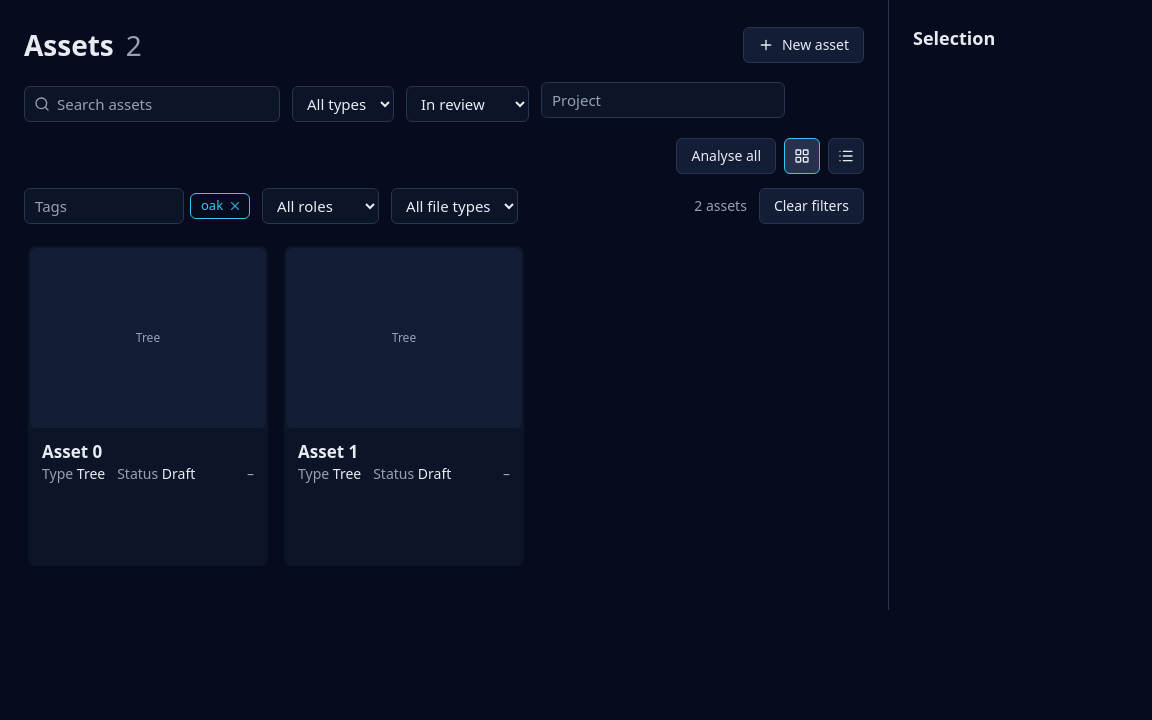
Test: Analyse all starts the current asset filter and shows the outcome
Expected: the text "Asset 0" is shown, [42, 440, 102, 463]
Click the button "Analyse all" at (726, 156), box [676, 138, 776, 174]
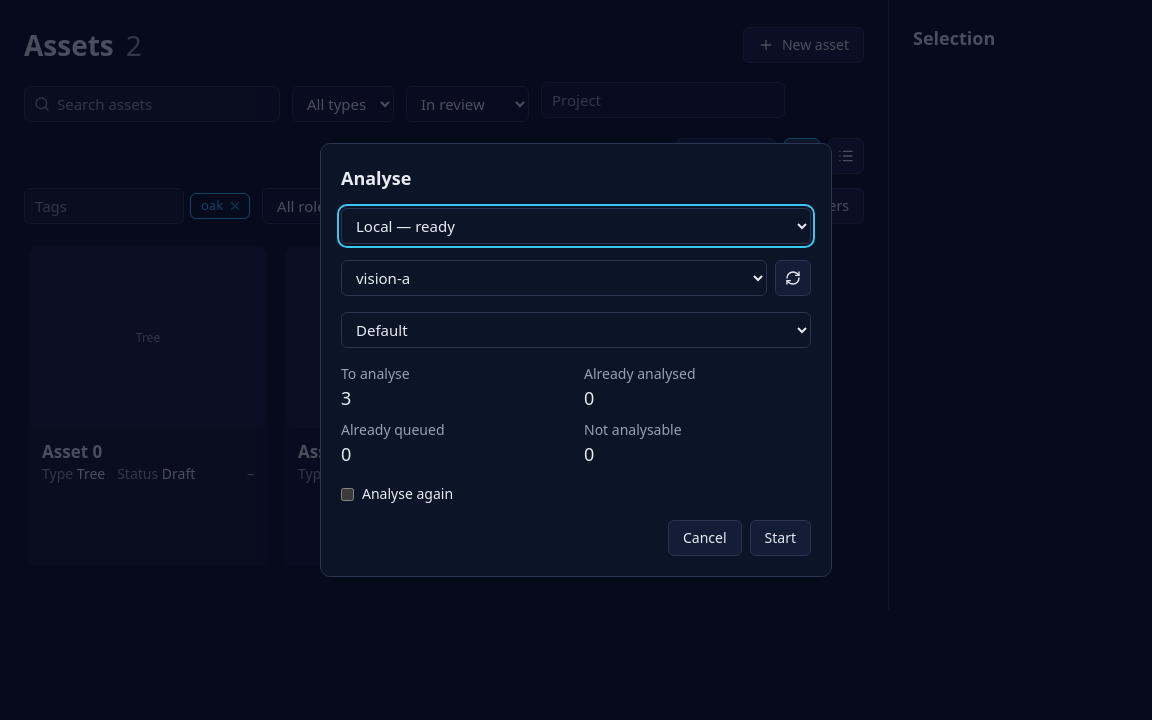
Expected: the dialog "Analyse" is shown, [320, 143, 832, 577]
Expected: the button "Start" is enabled
Click the button "Start" at (780, 538), box [750, 520, 811, 556]
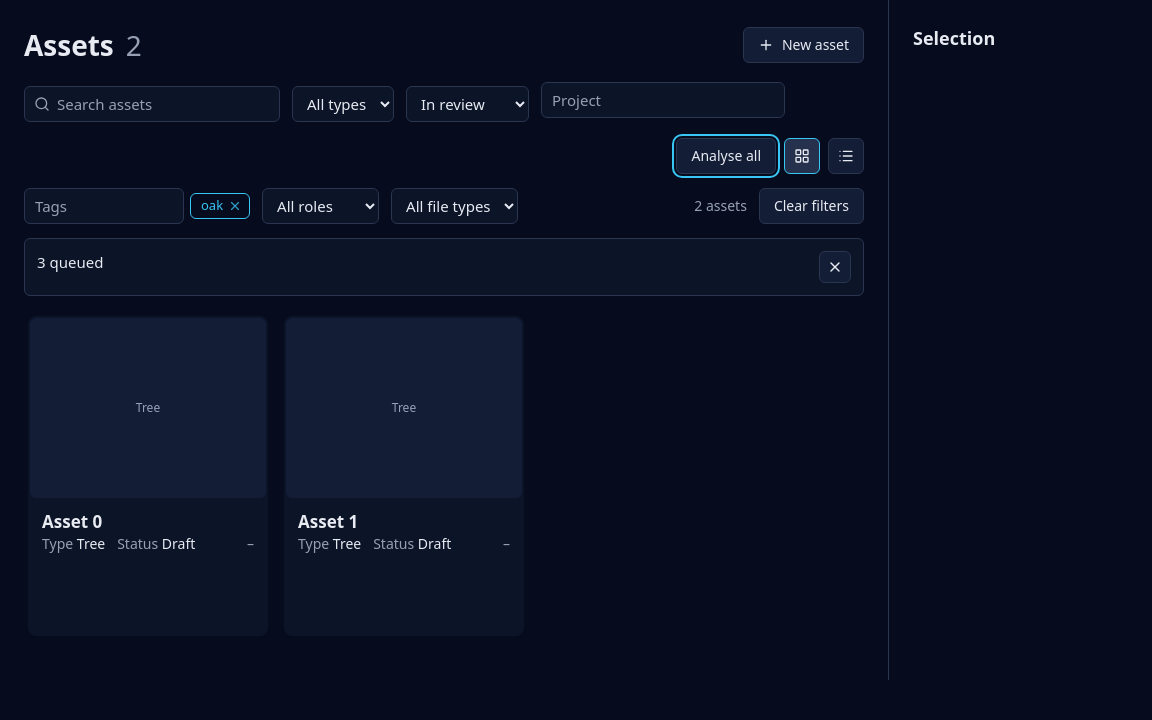
Expected: the text "3 queued" is shown, [37, 252, 103, 272]
